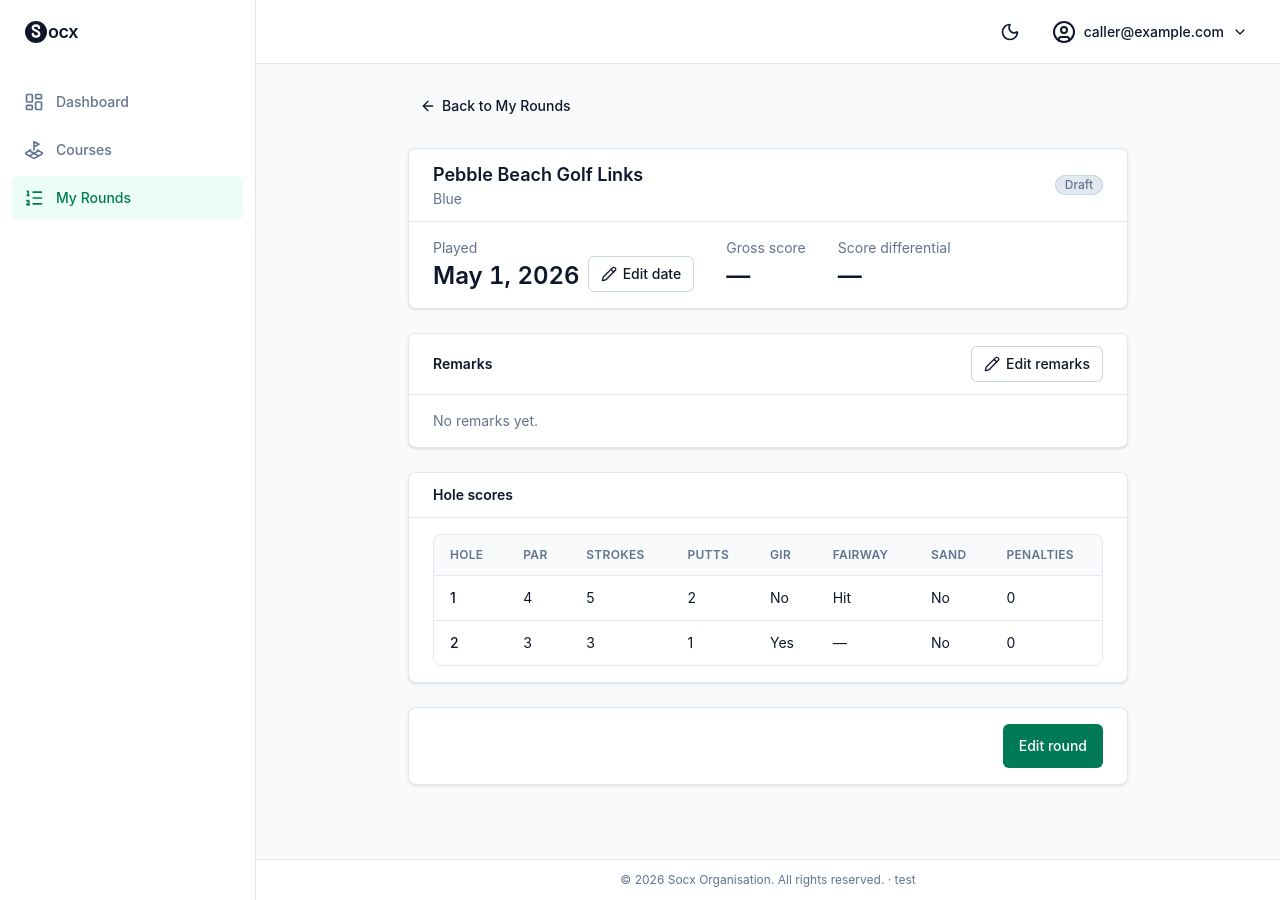
Test: RoundDetailsPage › Edit round navigates to the existing edit/resume screen
Click the button "Edit round" at [1053, 746], box x1=1003 y1=724 x2=1103 y2=768
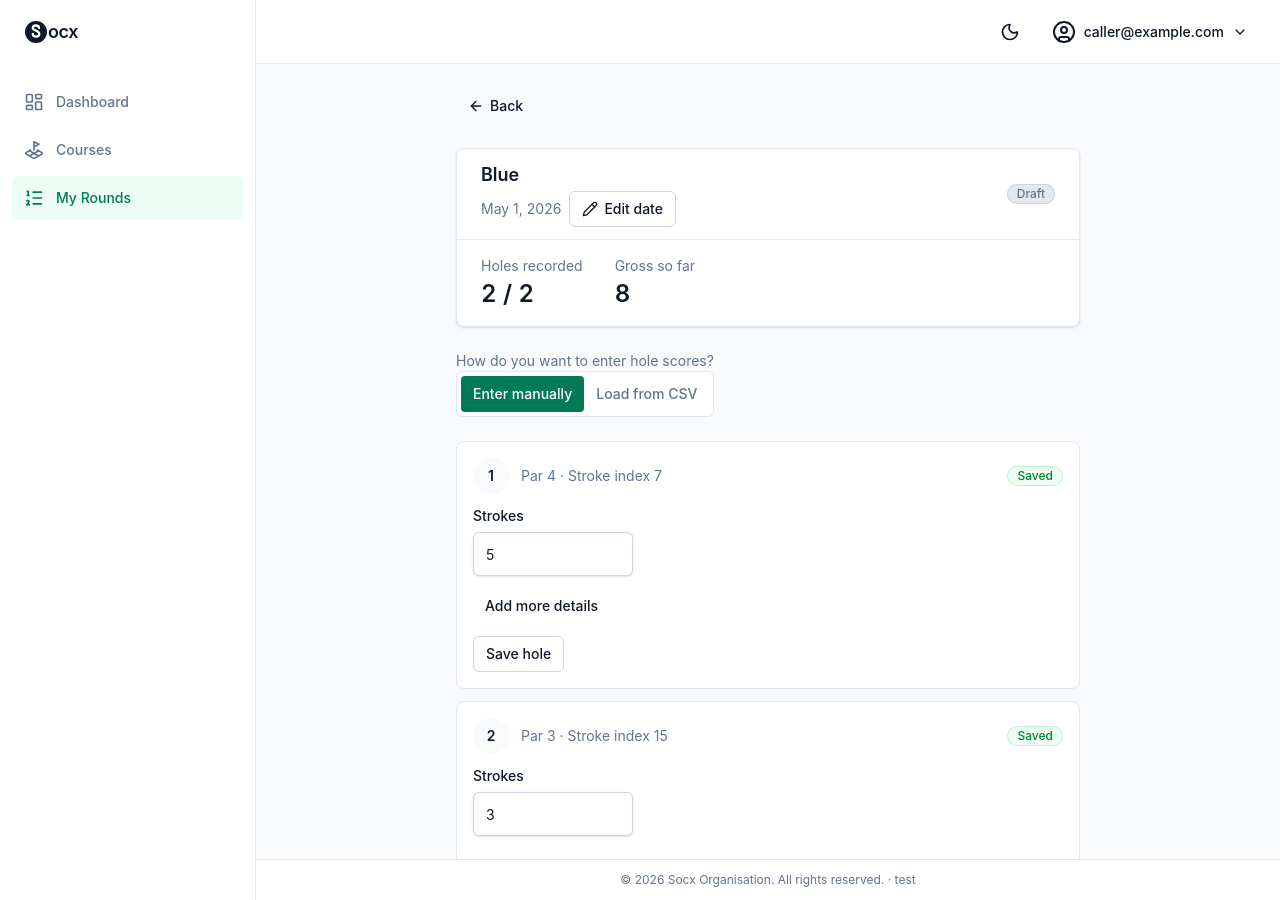
Expected: the text "Holes recorded" is shown, x1=481 y1=256 x2=583 y2=276
